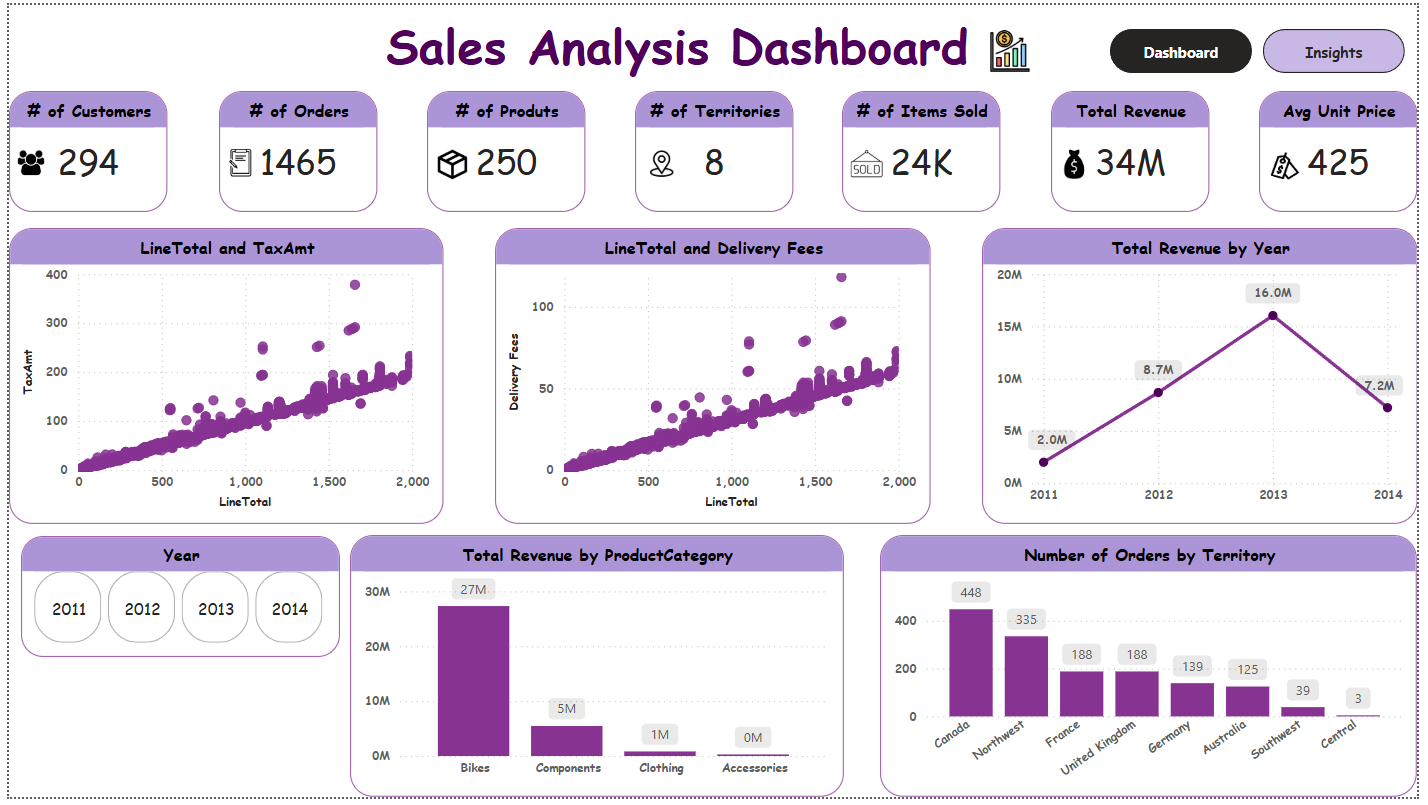

What the dashboard file says about the page in this screenshot:
{"tool":"powerbi","page":{"name":"Dashboard","canvas":[1280,720],"ordinal":0},"visuals":[{"type":"textbox","box":[0,1.9,1214.9,75.8],"z":0},{"type":"card","title":"Avg Unit Price","fields":{"Values":["Sales.# Average Unit price"]},"box":[1136,78.4,144,110],"z":3,"group":"g1"},{"type":"image","box":[1136.1,122.9,47.9,47],"z":11,"group":"g1"},{"type":"group","id":"g1","title":"Group 1","box":[1136,78.4,144,110],"z":1000},{"type":"card","title":"# of Orders","fields":{"Values":["Sales.# of Orders"]},"box":[191.8,78.4,144,110],"z":2000,"group":"g5"},{"type":"card","title":"# of Items Sold","fields":{"Values":["Sales.# of Items Sold"]},"box":[757.6,78.4,144,110.3],"z":2000},{"type":"card","title":"Total Revenue","fields":{"Values":["Sales.# Total Revenue"]},"box":[947.4,78.4,144,110],"z":3000,"group":"g2"},{"type":"scatterChart","fields":{"X":["Sales.LineTotal"],"Y":["Sales.TaxAmt"]},"box":[0,203,395.5,269],"z":3000},{"type":"card","title":"# of Customers","fields":{"Values":["Sales.# of Customers"]},"box":[0,78.4,144,110],"z":4000},{"type":"card","title":"# of Territories","fields":{"Values":["Sales.# of Territories"]},"box":[569,78.4,144,110],"z":4000,"group":"g3"},{"type":"card","title":"# of Produts","fields":{"Values":["Sales.# of Produts"]},"box":[380.4,78.4,144,110],"z":5000,"group":"g4"},{"type":"group","id":"g2","title":"Group 2","box":[946.3,78.4,145.1,110],"z":5000},{"type":"scatterChart","fields":{"X":["Sales.LineTotal"],"Y":["Sales.Delivery Fees"]},"box":[441.9,203,396,269],"z":6000},{"type":"group","id":"g3","title":"Group 3","box":[569,78.4,144,110.3],"z":7000},{"type":"image","box":[865,17,89,49],"z":8000},{"type":"group","id":"g4","title":"Group 4","box":[380.4,78.4,144,110.3],"z":9000},{"type":"pageNavigator","box":[1001,21.9,269.9,40.1],"z":10000},{"type":"image","box":[946.3,122.8,44.3,44.3],"z":10000,"group":"g2"},{"type":"group","id":"g5","title":"Group 5","box":[188.6,78.4,147.2,110],"z":11000},{"type":"image","box":[188.6,122.8,43.4,41.7],"z":11000,"group":"g5"},{"type":"image","box":[383.8,125.5,39.9,39],"z":12000,"group":"g4"},{"type":"advancedSlicerVisual","fields":{"Values":["Sales.Year"]},"box":[10.6,482.4,290,110],"z":12000},{"type":"image","box":[576.4,127.3,33.7,34.6],"z":13000,"group":"g3"},{"type":"lineChart","title":"Total Revenue by Year","fields":{"Category":["Sales.Year","Sales.Month"],"Y":["Sales.# Total Revenue"]},"box":[884.3,203,395.7,268.9],"z":13000},{"type":"image","box":[0,125.5,39.9,36.4],"z":14000},{"type":"image","box":[758.1,122.4,43.4,42.6],"z":15000},{"type":"columnChart","title":"Total Revenue by ProductCategory","fields":{"Category":["Sales.ProductCategory"],"Y":["Sales.# Total Revenue"]},"box":[309.8,481.7,448.7,237.9],"z":16000},{"type":"columnChart","title":"Number of Orders by Territory","fields":{"Category":["Sales.Territory"],"Y":["Sales.# of Orders"]},"box":[791.5,481.7,488.5,237.9],"z":17000}]}

Visuals, with their boxes in screenshot pixels (x1, y1, x2, y2), scaled from the page's 1280x720 canvas onto the 1428x805 screenshot:
textbox: 0:2:1355:87
"Avg Unit Price" card: 1267:88:1427:211
image: 1267:137:1321:190
"Group 1" group: 1267:88:1427:211
"# of Orders" card: 214:88:375:211
"# of Items Sold" card: 845:88:1006:211
"Total Revenue" card: 1057:88:1218:211
scatterChart - Sales.LineTotal x Sales.TaxAmt: 0:227:441:528
"# of Customers" card: 0:88:161:211
"# of Territories" card: 635:88:795:211
"# of Produts" card: 424:88:585:211
"Group 2" group: 1056:88:1218:211
scatterChart - Sales.LineTotal x Sales.Delivery Fees: 493:227:935:528
"Group 3" group: 635:88:795:211
image: 965:19:1064:74
"Group 4" group: 424:88:585:211
pageNavigator: 1117:24:1418:69
image: 1056:137:1105:187
"Group 5" group: 210:88:375:211
image: 210:137:259:184
image: 428:140:473:184
advancedSlicerVisual - Sales.Year: 12:539:335:662
image: 643:142:681:181
"Total Revenue by Year" lineChart: 987:227:1427:528
image: 0:140:45:181
image: 846:137:894:184
"Total Revenue by ProductCategory" columnChart: 346:539:846:804
"Number of Orders by Territory" columnChart: 883:539:1427:804
